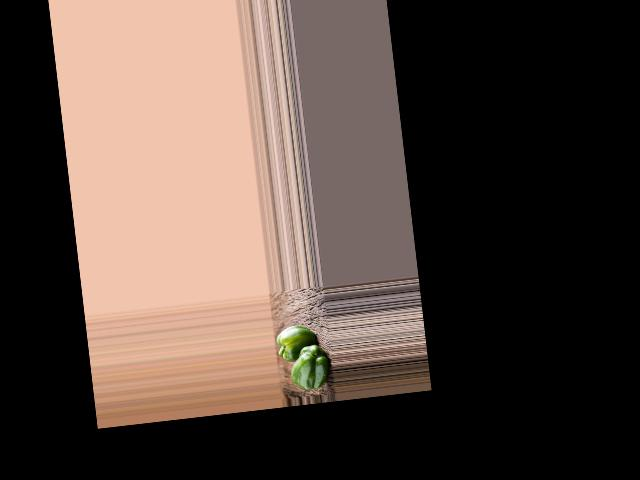bell_pepper: (287, 341, 329, 391)
